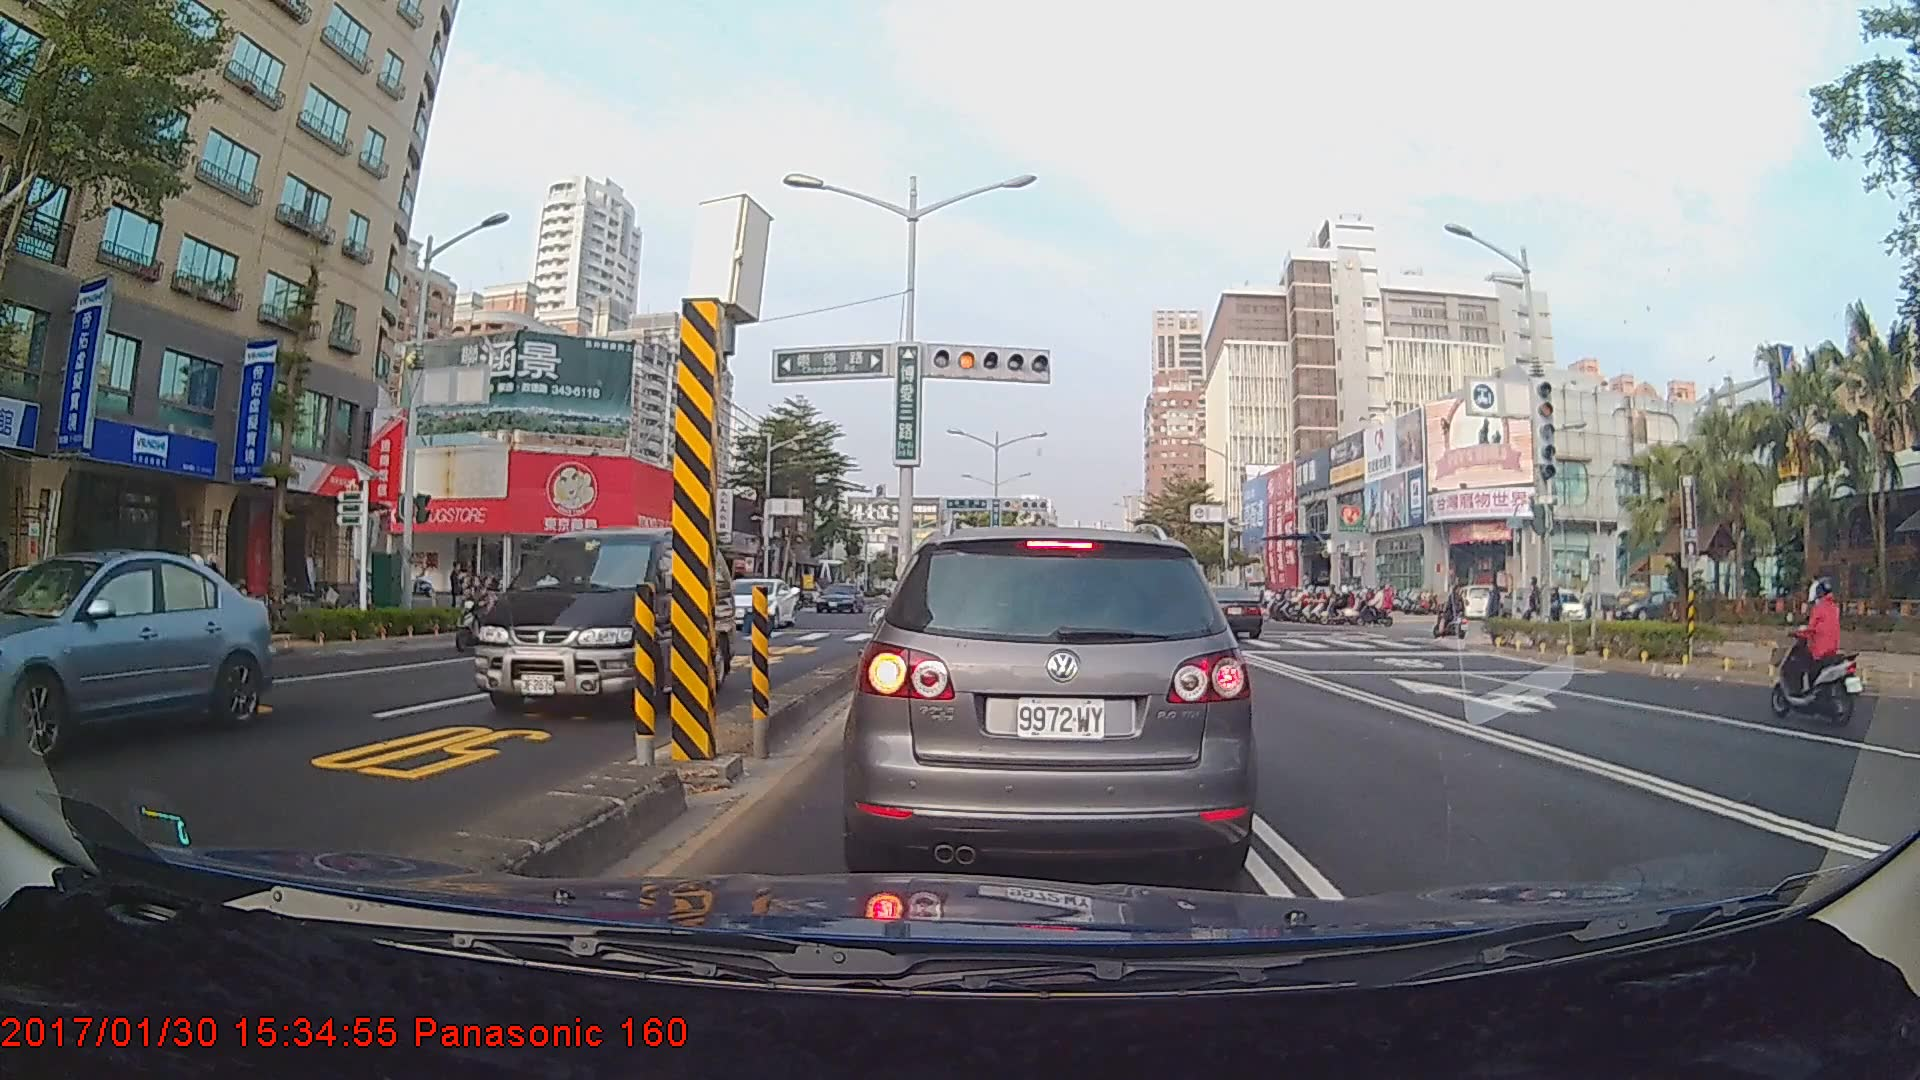pedestrian: (1803, 575, 1833, 649), (1484, 579, 1509, 637), (447, 558, 468, 621)
rider: (1769, 572, 1852, 727), (446, 574, 501, 659), (518, 559, 553, 629), (1436, 582, 1473, 646)
vehicle: (855, 522, 1252, 878), (0, 549, 279, 765), (471, 525, 736, 721), (1179, 583, 1263, 640), (715, 577, 797, 631), (813, 581, 862, 615)
